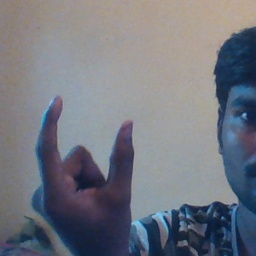U: (27, 91, 141, 247)
